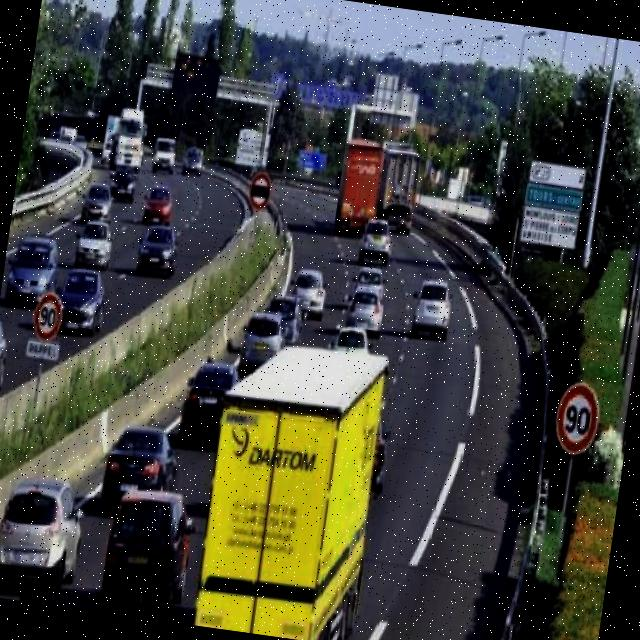Ograniczenie predkosci do 90: (554, 384, 602, 454), (32, 292, 65, 342)
